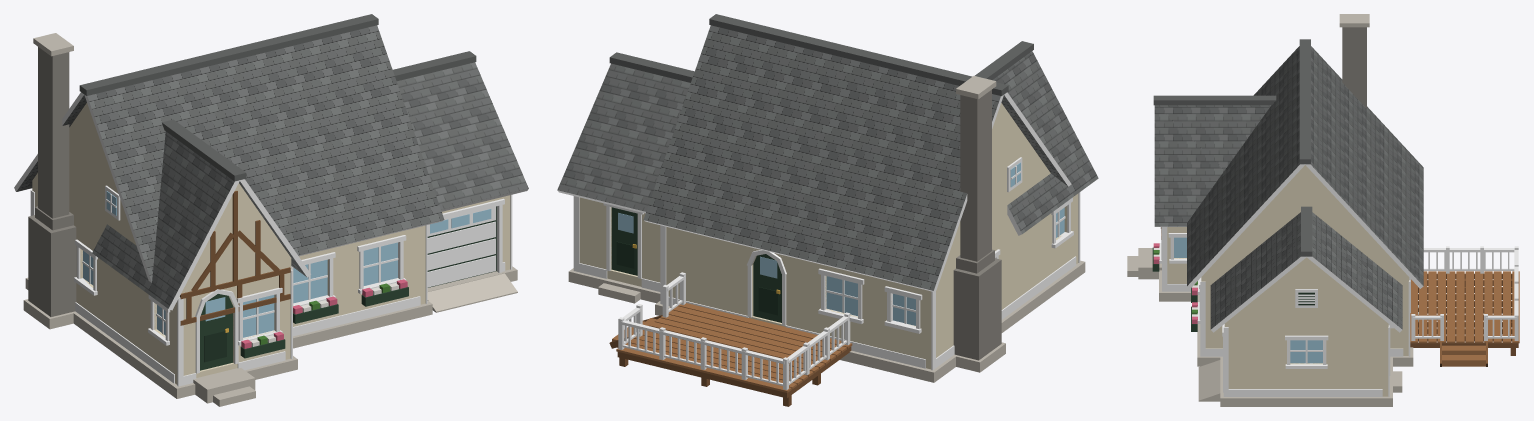
File: base-08-level3.glb
The picture shows the model from 3 angles, left to right: view 1: azimuth 30°, elevation 25°; view 2: azimuth 150°, elevation 25°; view 3: azimuth 270°, elevation 25°; orthographic projection. The views are drawn at different scales.
Visible parts, largest first — view 1: base_house_8_finished, piece_garage; view 2: base_house_8_finished, piece_garage, piece_deck; view 3: base_house_8_finished, piece_garage, piece_deck.
Part boxes in pixels (box(x1,y1,x2,y2)): base_house_8_finished: box(14, 14, 444, 406); piece_garage: box(393, 51, 528, 312); base_house_8_finished: box(643, 14, 1098, 382); piece_garage: box(557, 52, 694, 303); piece_deck: box(609, 272, 852, 406); base_house_8_finished: box(1127, 14, 1423, 366); piece_garage: box(1198, 206, 1402, 406); piece_deck: box(1410, 246, 1519, 366).
Size of the model in its own units: 14.49 by 9.33 by 14.33.
Materials: 16 (1 with a texture image).
